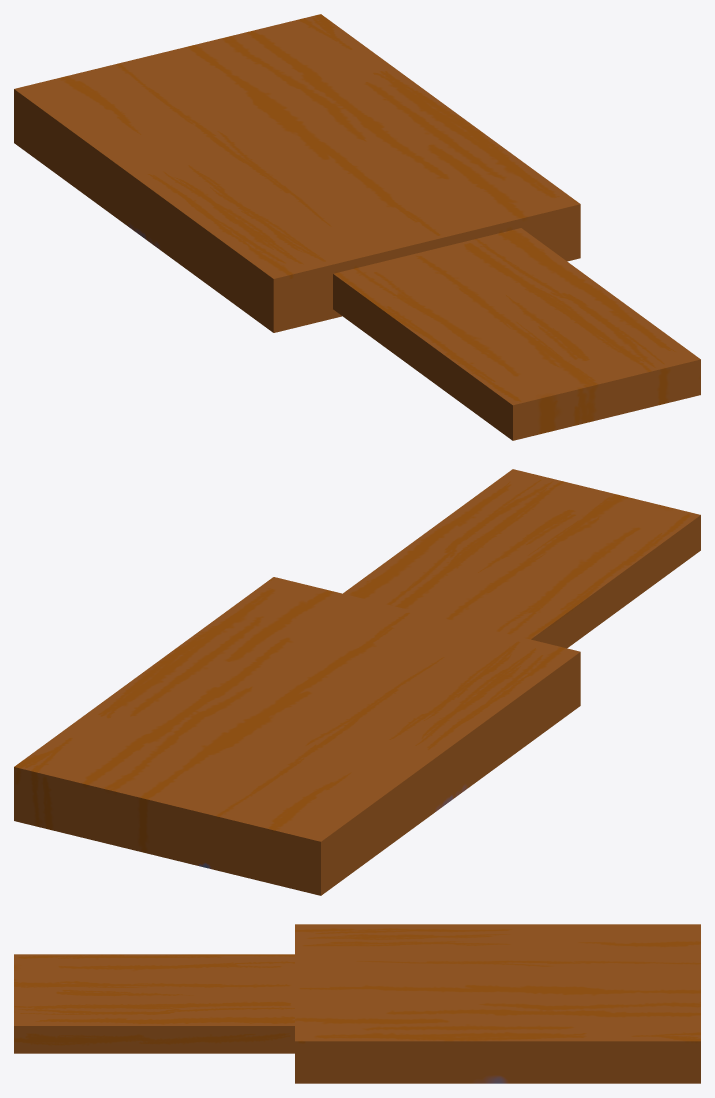
Rendered from F_Boards_1.fbx.
The picture shows the model from 3 angles, top to bottom: view 1: azimuth 30°, elevation 25°; view 2: azimuth 150°, elevation 25°; view 3: azimuth 270°, elevation 25°; orthographic projection. The views are drawn at different scales.
Visible parts, largest first — view 1: Rewards_Boards_1st; view 2: Rewards_Boards_1st; view 3: Rewards_Boards_1st.
Part boxes in pixels (x1,y1,x2,y2): Rewards_Boards_1st: (14,14,700,440); Rewards_Boards_1st: (14,469,700,895); Rewards_Boards_1st: (14,924,700,1083).
Size of the model in its own units: 68.25 by 11.49 by 169.
